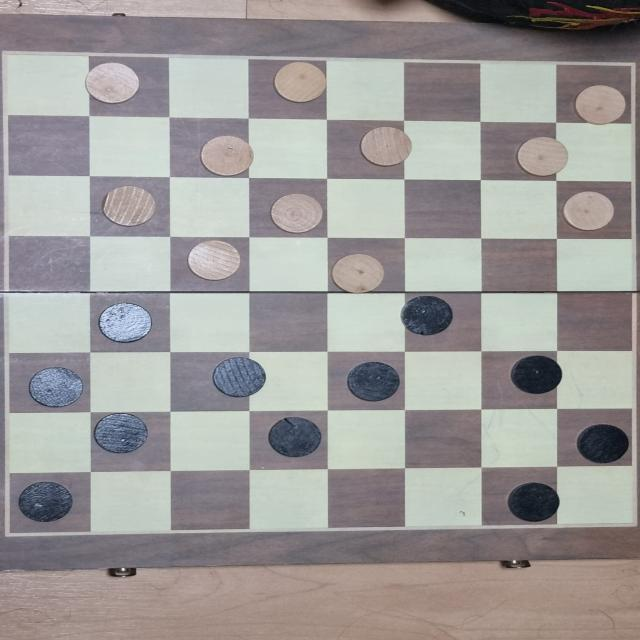BOARD: (0, 53, 635, 543)
black: (478, 464, 564, 525), (483, 347, 570, 403), (560, 407, 635, 467), (93, 291, 158, 351), (398, 285, 461, 345), (11, 475, 78, 529), (210, 350, 275, 404), (336, 354, 401, 408), (21, 363, 90, 412), (261, 413, 330, 462), (90, 414, 162, 460)
white: (188, 118, 271, 181), (82, 174, 169, 228), (487, 128, 577, 179), (182, 234, 253, 283), (260, 62, 337, 105), (330, 243, 388, 300), (560, 83, 629, 129), (261, 188, 333, 232), (349, 122, 419, 167), (85, 60, 148, 108), (554, 190, 618, 233)
